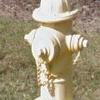Hydrant: (19, 2, 90, 100)
